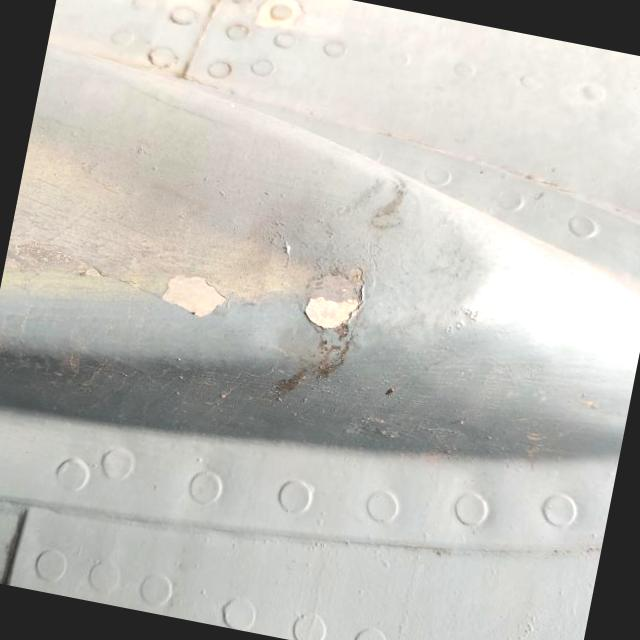paint-off: (133, 242, 259, 351), (277, 235, 387, 357)
